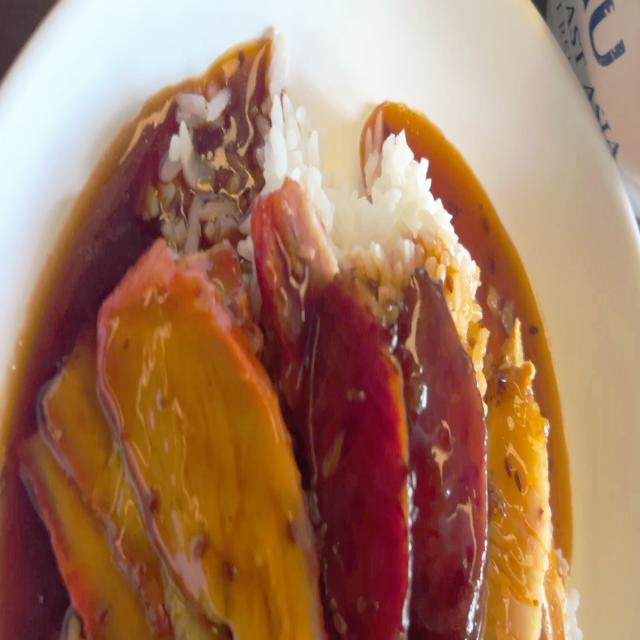chainese_sausage: (311, 262, 486, 640), (314, 275, 395, 640), (407, 272, 482, 624)
crispy_pork: (478, 324, 565, 640)
red_pork: (17, 250, 310, 640), (93, 238, 314, 614), (39, 346, 168, 610), (15, 418, 138, 631), (249, 174, 323, 347)
red_pork_and_crispy_pork: (25, 47, 579, 640)
rice: (331, 132, 483, 272), (270, 88, 332, 198)
